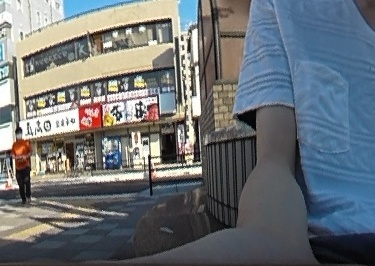person: (11, 125, 35, 199)
